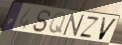4: (17, 7, 33, 32)
N: (61, 13, 85, 38)
Q: (47, 11, 67, 35)
S: (32, 9, 53, 34)
V: (97, 16, 119, 42)
Z: (77, 15, 101, 40)
